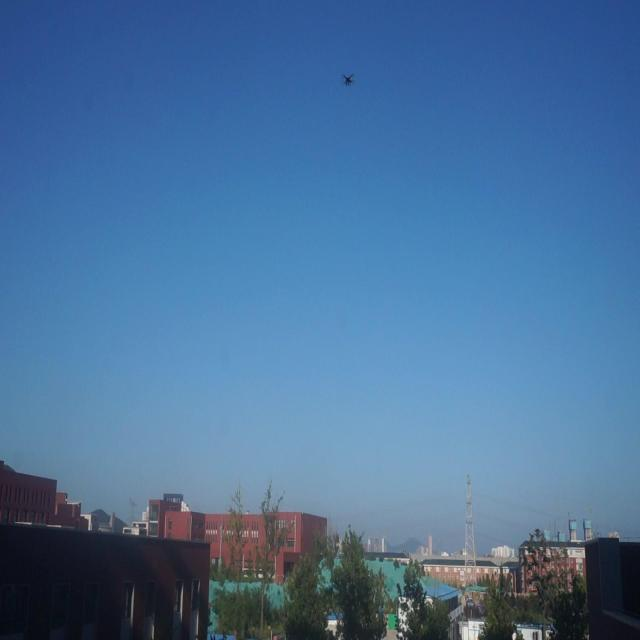drone: (339, 68, 357, 90)
